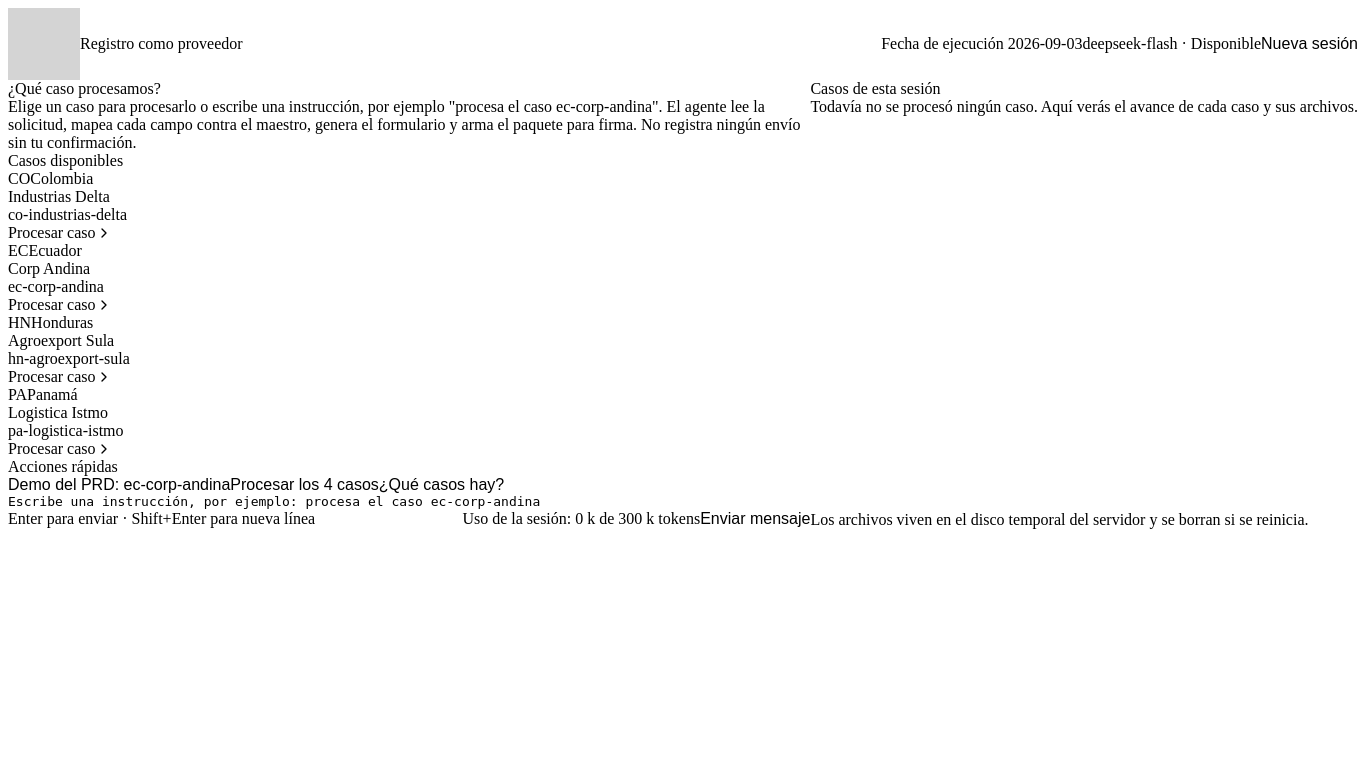
Test: App en escritorio: panel de casos y archivos › un 404 al pedir la vista previa muestra la pista de reinicio del servidor
Click the button "¿Qué casos hay?" at x=442, y=485, box x1=379 y1=476 x2=504 y2=494
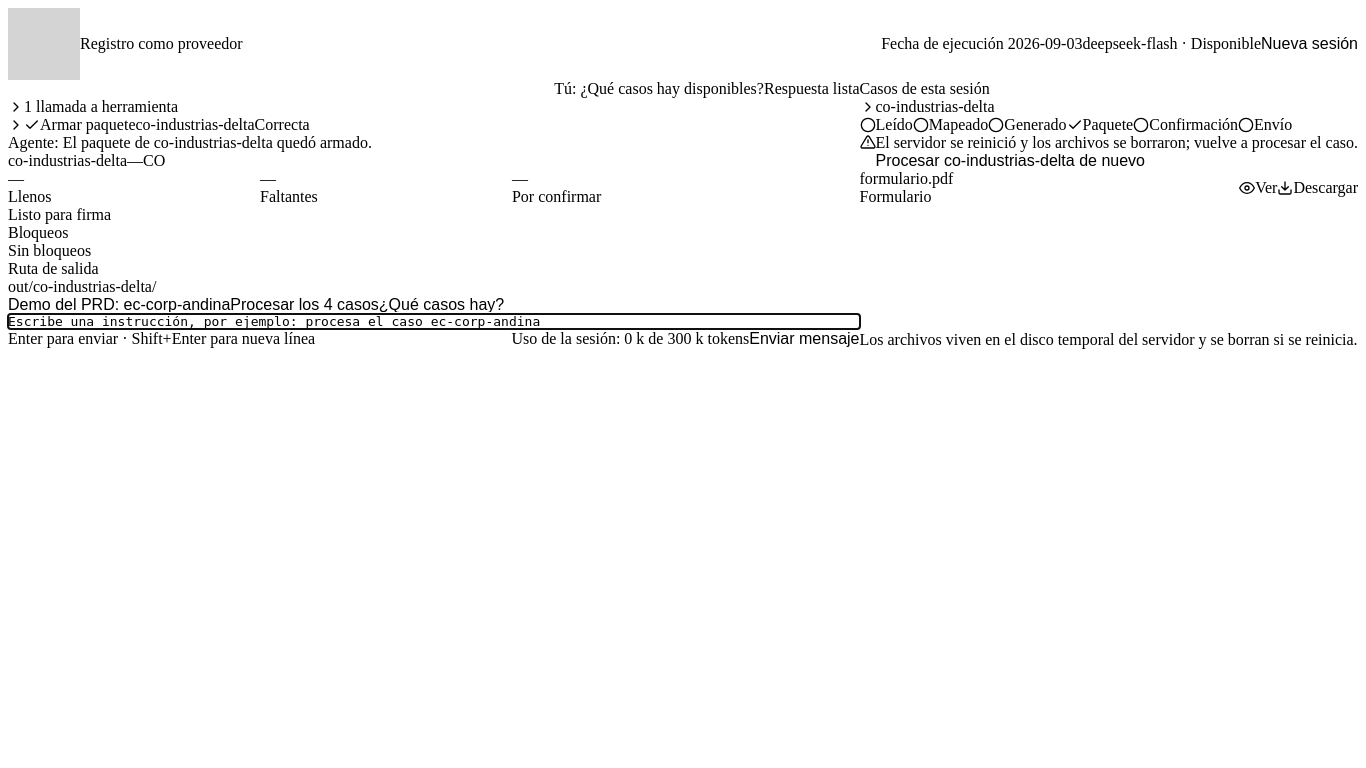
Result: the list item "El paquete de co-industrias-delta quedó armado." is shown at x1=63 y1=134 x2=372 y2=151
Click the button with aria-label "Ver formulario.pdf" at x=1258, y=188, box x1=1239 y1=179 x2=1277 y2=197
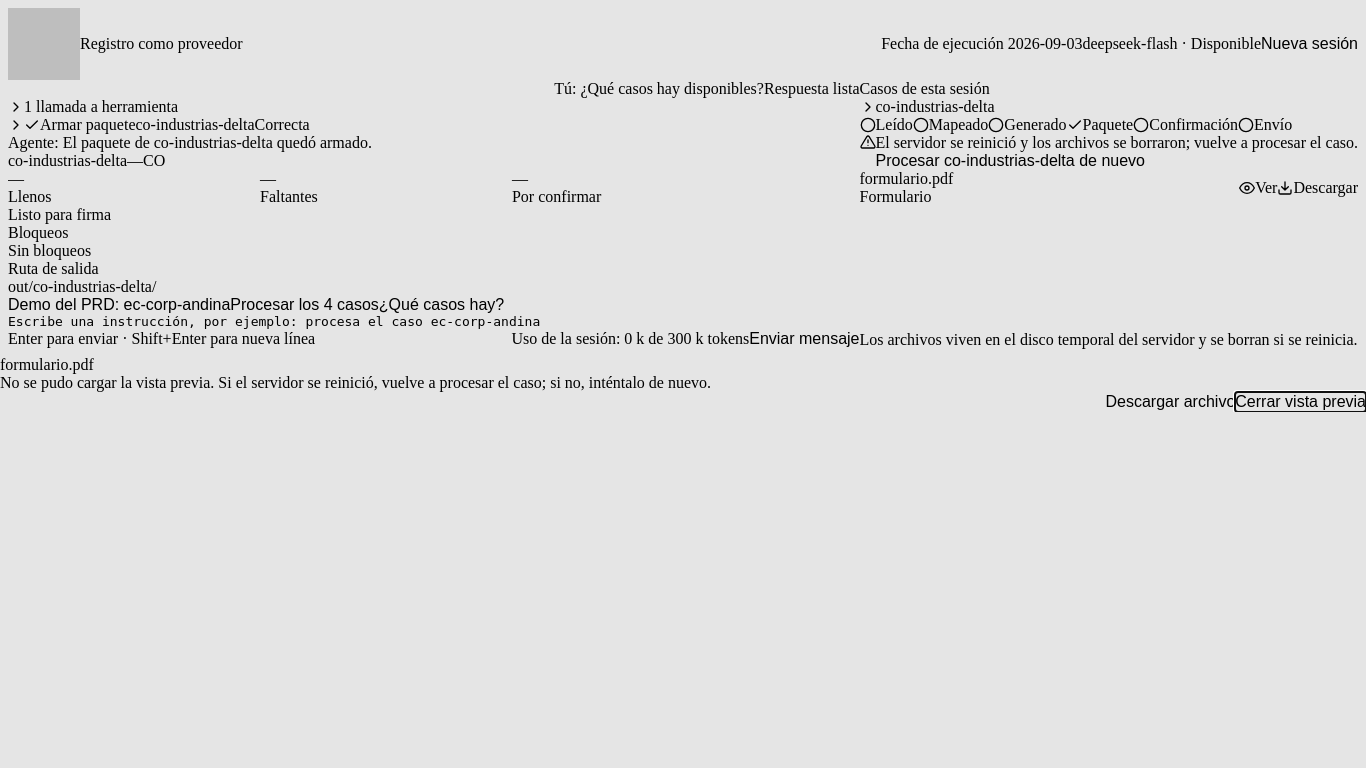
Result: the message shows "No se pudo cargar la vista previa. Si el servidor se reinició, vuelve a procesar el caso; si no, inténtalo de nuevo." at x1=0 y1=374 x2=711 y2=391
